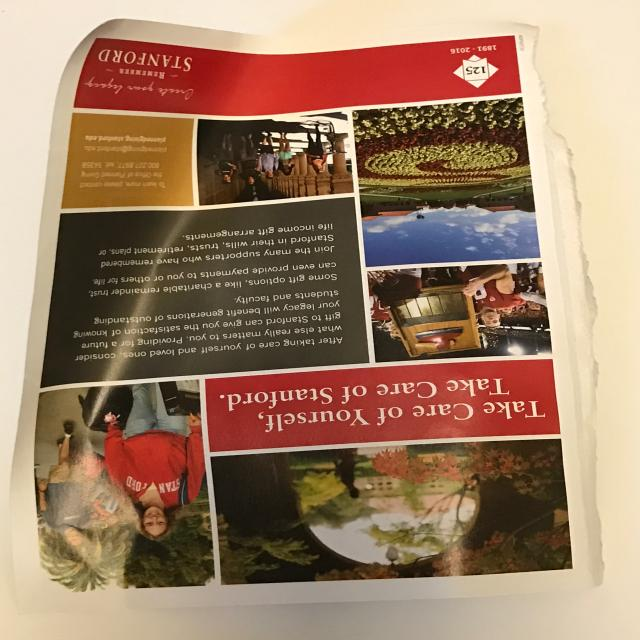paper: (0, 16, 607, 603)
